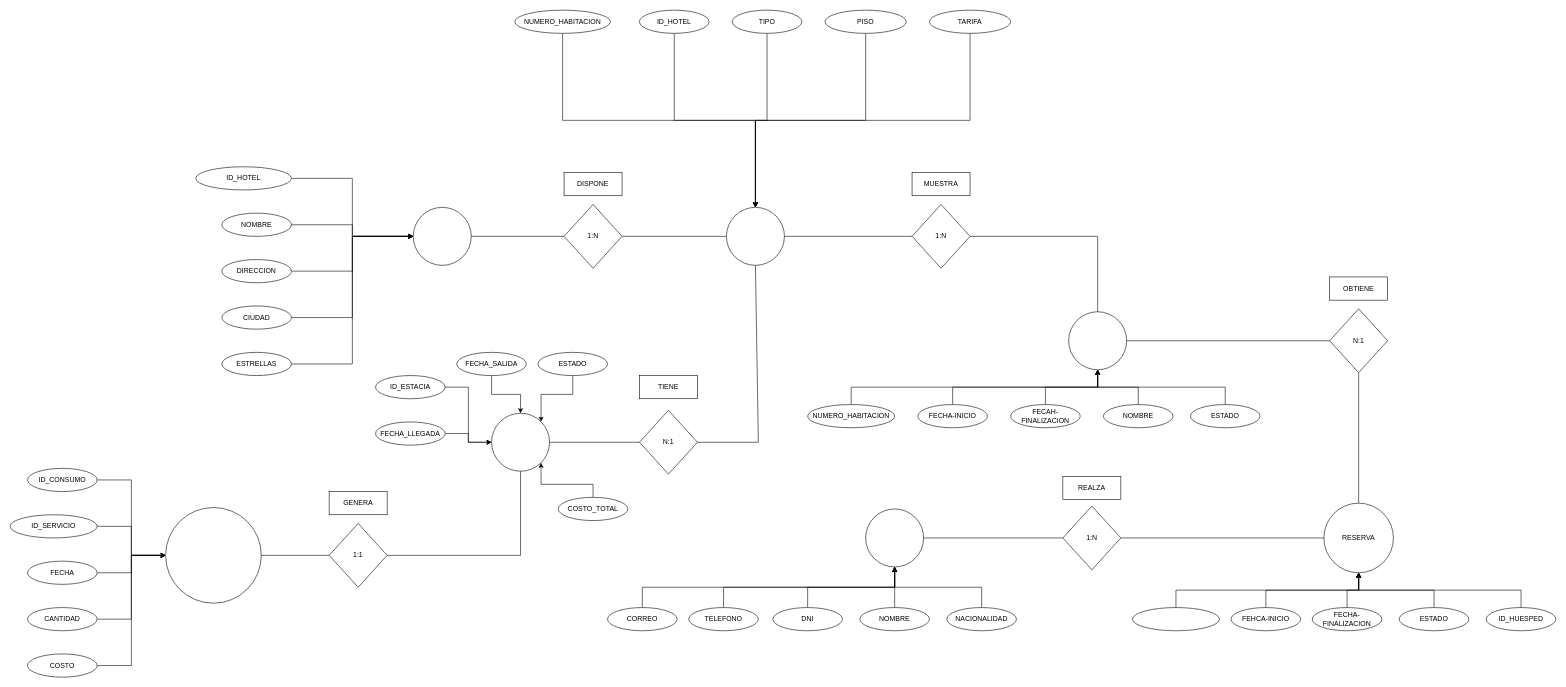
Some shapes in this 1566 by 687 pixel diagram are drawn without their labels. Each missing label, with the centre of its shape:
"CONSUMO_SERVICIO" goes at pixel 213 555.
"DETALLES-RESERVA" goes at pixel 1097 340.
"ESTANCIA" goes at pixel 520 442.
"HABITACIONES" goes at pixel 755 236.
"HOTEL" goes at pixel 442 236.
"HUESPED" goes at pixel 894 537.
"ID_RESERVA" goes at pixel 1175 619.
